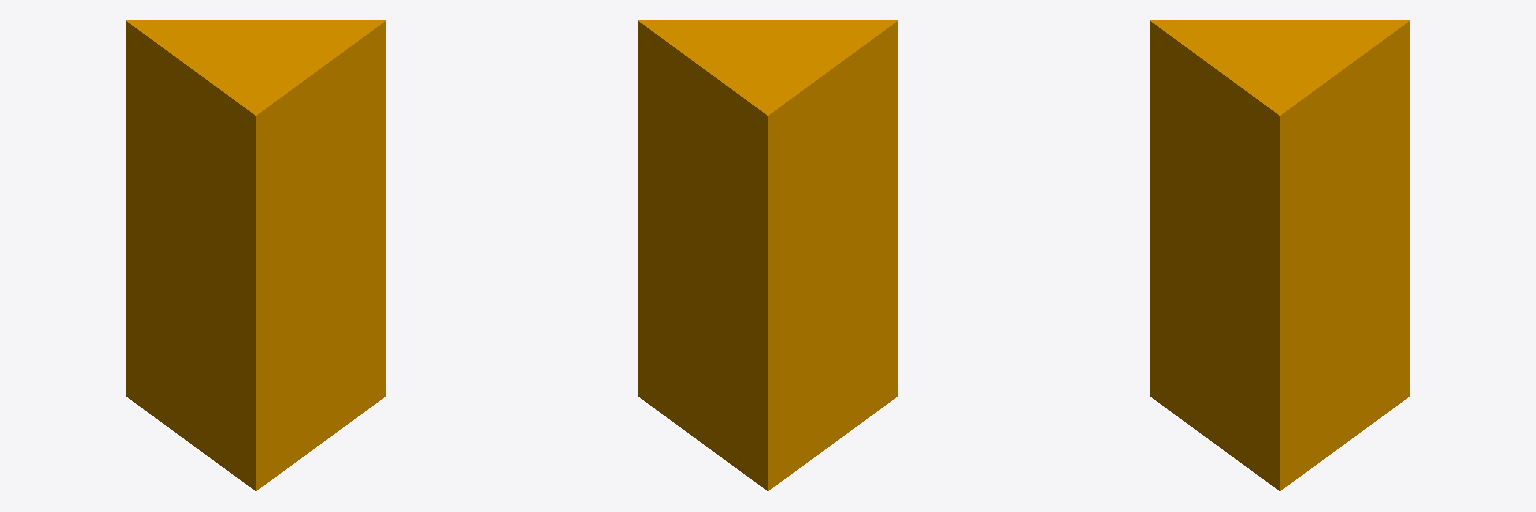
URDF robot description (triangle_peg):
<?xml version="1.0"?>
<robot name="triangle_peg">
    <link name="triangle_peg">
        <visual>
            <!--origin xyz="0 0 0.01905" rpy="0 1.57079632679 0"-->
            <geometry>
                <mesh filename="../mesh/factory_insertion/small_triangle_peg.obj"/>
            </geometry>
        </visual>
        <collision>
            <!--origin xyz="0 0 0.01905" rpy="0 1.57079632679 0"-->
            <geometry>
                <mesh filename="../mesh/factory_insertion/small_triangle_peg.obj"/>
            </geometry>
        </collision>
    </link>
</robot>

--- Facts derived from the render (not from the file) ---
3 views of the same robot in one strip: view 1: azimuth 30°, elevation 25°; view 2: azimuth 150°, elevation 25°; view 3: azimuth 270°, elevation 25° (orthographic).
Model triangle_peg with 1 links and 0 joints (none), rooted at triangle_peg, posed every joint at zero.
Links seen in each view (by area): view 1: triangle_peg; view 2: triangle_peg; view 3: triangle_peg.
Link boxes in pixels (x1=…): triangle_peg: x1=126, y1=20, x2=385, y2=490; triangle_peg: x1=638, y1=20, x2=897, y2=490; triangle_peg: x1=1150, y1=20, x2=1409, y2=490.
Bounding box of the posed robot: 0.0415 × 0.0479 × 0.0762 m (x, y, z).
Meshes: 1 distinct files referenced, 1 mesh visuals loaded (1 OBJ).
